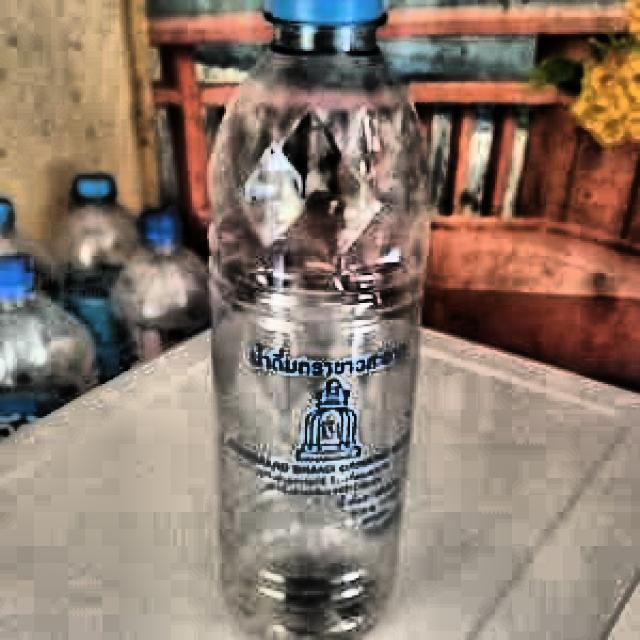Bottles: (170, 0, 468, 640)
